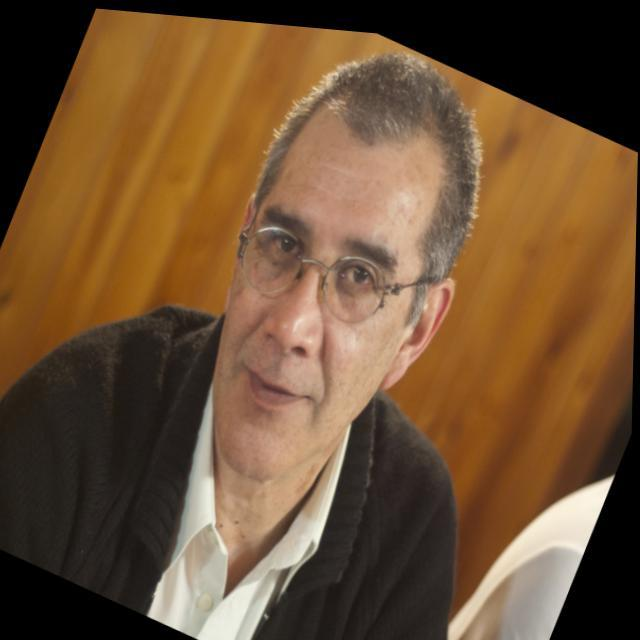Nonhelmet: (205, 48, 486, 478)
